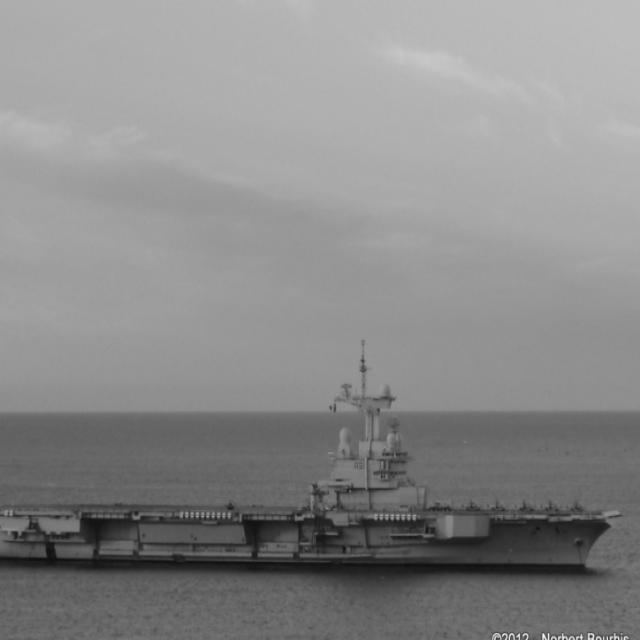Portanaves: (1, 335, 621, 580)
